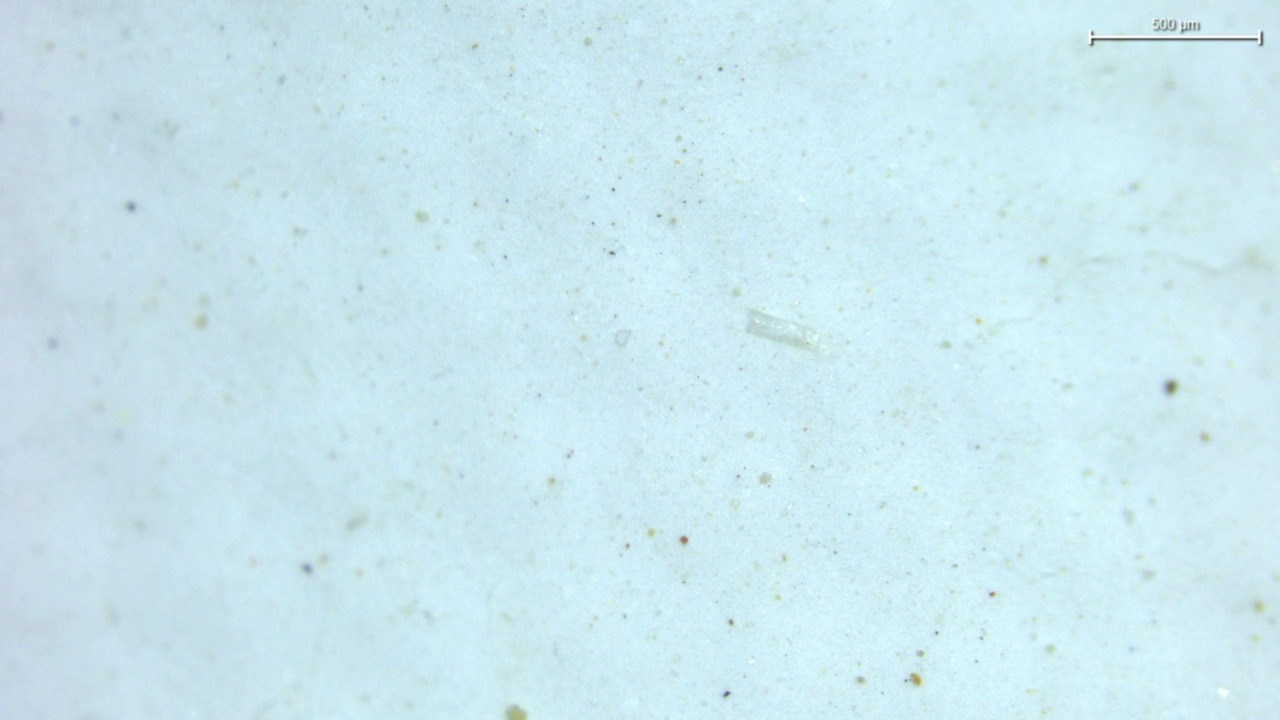microplastic_fragment: (746, 308, 818, 350)
